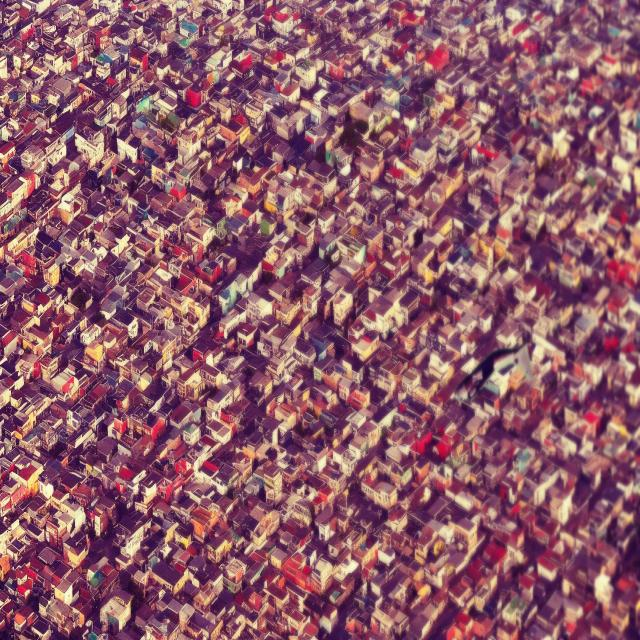airplane: (454, 342, 534, 402)
